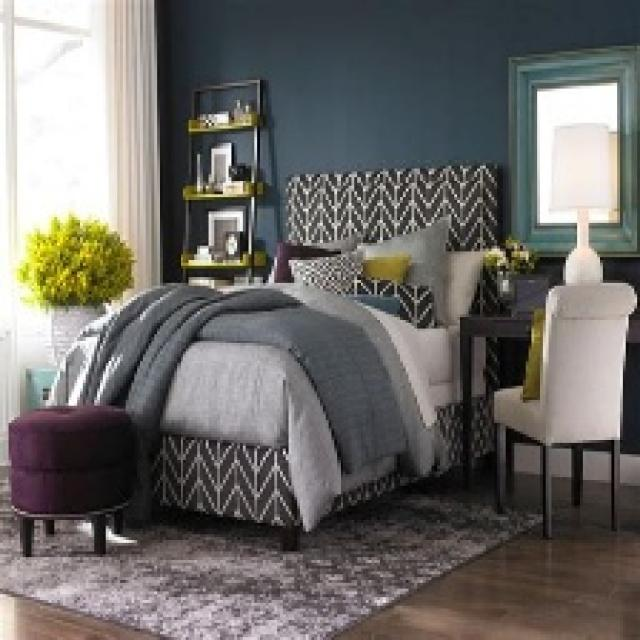Bed: (46, 160, 506, 549)
